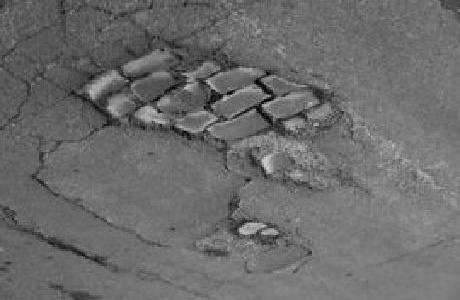pothole: (69, 40, 344, 146), (242, 136, 338, 193), (233, 218, 283, 245)
